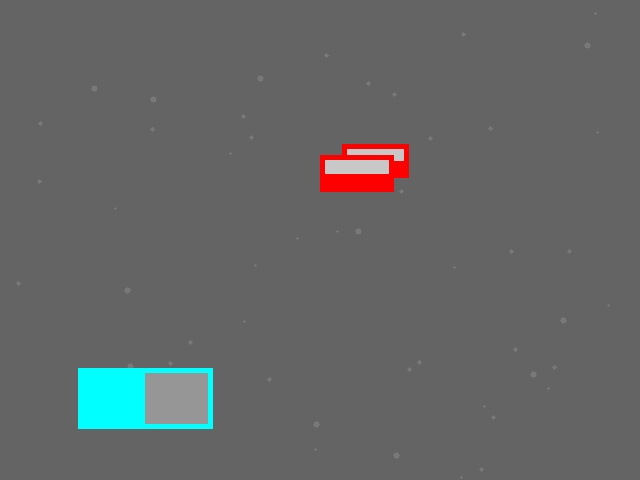car: (320, 155, 393, 191), (342, 144, 408, 177)
truck: (78, 368, 212, 428)
